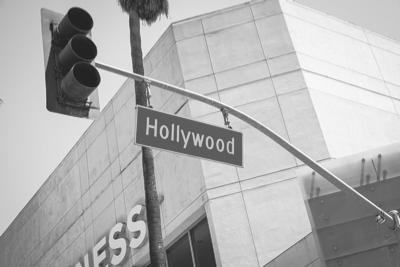International Road Signal Light: (40, 6, 103, 119)
